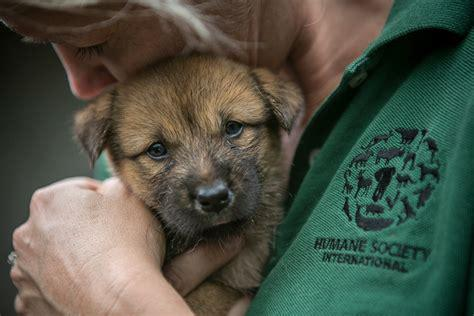dog: (74, 57, 299, 288)
